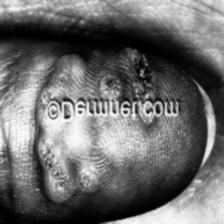Toxin: (33, 54, 95, 204), (130, 48, 156, 126), (97, 75, 123, 109)
